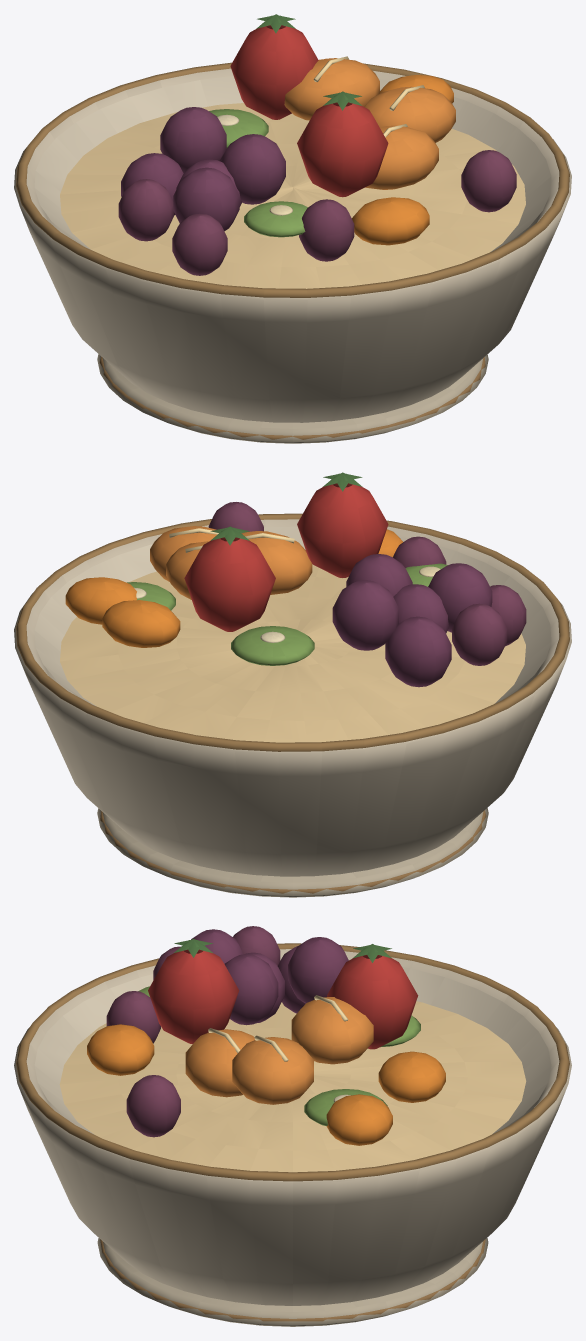
Rendered from fruit-salad.glb.
3 views of the same model, one above another, from view 1: azimuth 30°, elevation 25°; view 2: azimuth 150°, elevation 25°; view 3: azimuth 270°, elevation 25° (orthographic).
Parts seen in each view (by area): view 1: Shared_ivory_bowl, Soft_cream_fruit_base, Cream_inner_bowl, Thin_antique_brass_rim, Short_stable_pedestal, Tapered_strawberry_0, Tapered_strawberry_1, Apricot_orange_fruit_2, Wine_grape_3, Apricot_orange_fruit_1, Wine_grape_2, Apricot_orange_fruit_0 (+11 smaller); view 2: Shared_ivory_bowl, Soft_cream_fruit_base, Thin_antique_brass_rim, Cream_inner_bowl, Short_stable_pedestal, Tapered_strawberry_1, Tapered_strawberry_0, Wine_grape_1, Wine_grape_2, Golden_citrus_wedge_1, Additional_juicy_grape_1, Kiwi_green_slice_0 (+12 smaller); view 3: Shared_ivory_bowl, Soft_cream_fruit_base, Cream_inner_bowl, Thin_antique_brass_rim, Short_stable_pedestal, Tapered_strawberry_0, Tapered_strawberry_1, Apricot_orange_fruit_1, Apricot_orange_fruit_2, Apricot_orange_fruit_0, Wine_grape_2, Golden_citrus_wedge_1 (+11 smaller).
Boxes of the visible parts, x1,y1,x2,y2 form: Shared_ivory_bowl: (14,68,571,422); Soft_cream_fruit_base: (60,103,525,288); Cream_inner_bowl: (34,75,551,251); Thin_antique_brass_rim: (16,62,569,297); Short_stable_pedestal: (97,354,488,443); Tapered_strawberry_0: (297,102,388,197); Tapered_strawberry_1: (230,25,318,119); Apricot_orange_fruit_2: (284,58,379,120); Wine_grape_3: (220,134,285,204); Apricot_orange_fruit_1: (364,86,455,142); Wine_grape_2: (160,107,226,173); Apricot_orange_fruit_0: (365,125,438,189); Shared_ivory_bowl: (14,519,571,876); Soft_cream_fruit_base: (60,564,525,742); Thin_antique_brass_rim: (16,513,569,751); Cream_inner_bowl: (34,526,551,706); Short_stable_pedestal: (97,808,488,897); Tapered_strawberry_1: (184,537,275,631); Tapered_strawberry_0: (297,483,388,577); Wine_grape_1: (385,616,451,687); Wine_grape_2: (332,580,398,650); Golden_citrus_wedge_1: (102,600,180,647); Additional_juicy_grape_1: (452,603,507,665); Kiwi_green_slice_0: (231,626,314,665); Shared_ivory_bowl: (14,949,571,1305); Soft_cream_fruit_base: (59,1001,526,1172); Cream_inner_bowl: (34,956,551,1134); Thin_antique_brass_rim: (16,943,569,1181); Short_stable_pedestal: (97,1238,488,1326); Tapered_strawberry_0: (148,949,239,1044); Tapered_strawberry_1: (327,955,418,1049); Apricot_orange_fruit_1: (232,1037,313,1104); Apricot_orange_fruit_2: (291,997,373,1064); Apricot_orange_fruit_0: (185,1029,254,1097); Wine_grape_2: (288,937,348,1003); Golden_citrus_wedge_1: (378,1051,445,1102).
Size of the model in its own units: 0.842 by 0.527 by 0.842.
